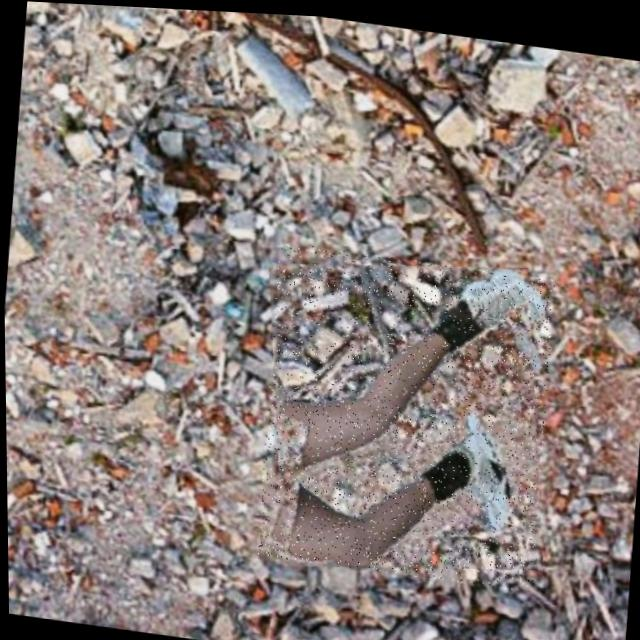Person in Rubble: (251, 236, 557, 587)
